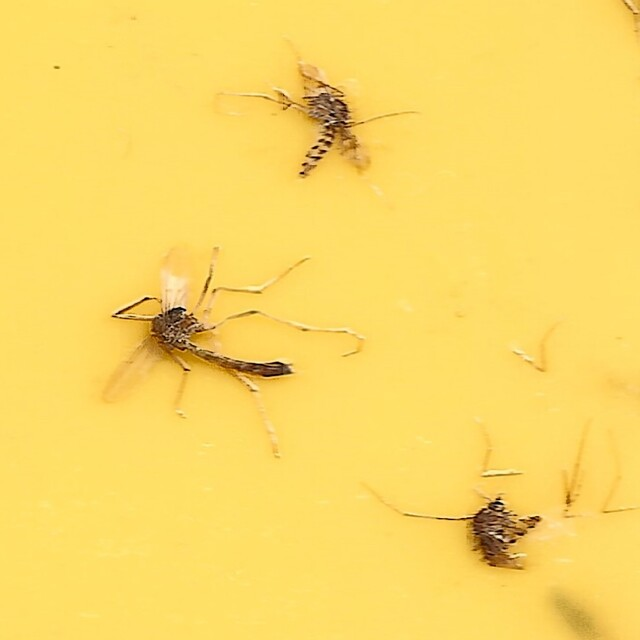Nematocera: (91, 251, 374, 452), (277, 69, 386, 188), (469, 494, 549, 571)
